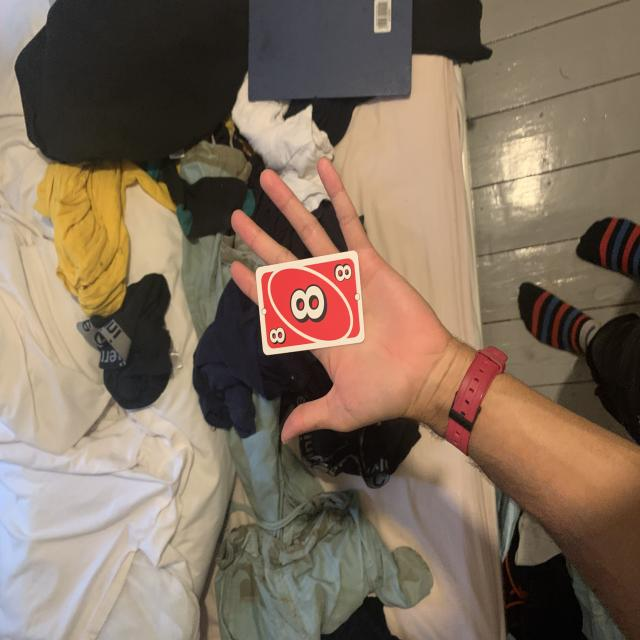lred-8: (331, 260, 356, 285)
